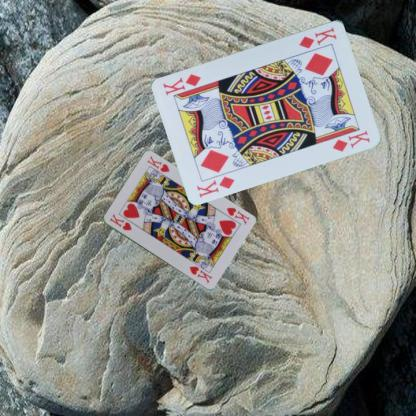Kd: (297, 23, 338, 50), (194, 173, 236, 199)
Kh: (223, 204, 250, 226), (107, 211, 133, 232)
